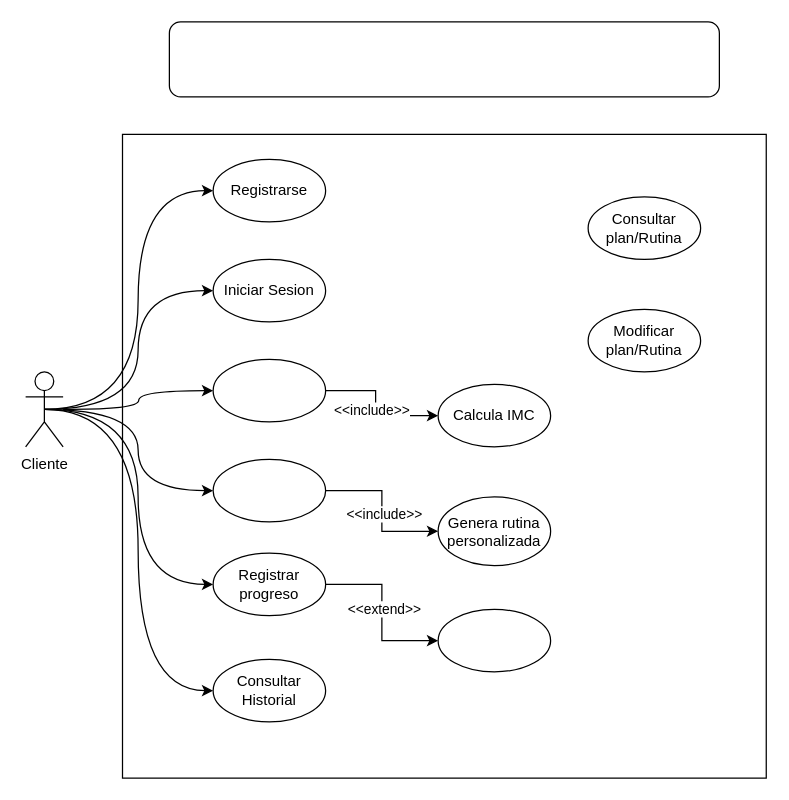
The diagram is 789 pixels wide and 800 high, and some of its shapes have lost their labels. The box of each missing label's shape, as (x1, y1, x2, y2) in pixels:
Adapta Rutina: (437, 608, 551, 672)
DIAGRAMA DE CASOS DE USO: (168, 21, 719, 97)
Generar plan De Alimentacion: (212, 358, 326, 422)
Generar Rutina: (212, 458, 326, 522)
